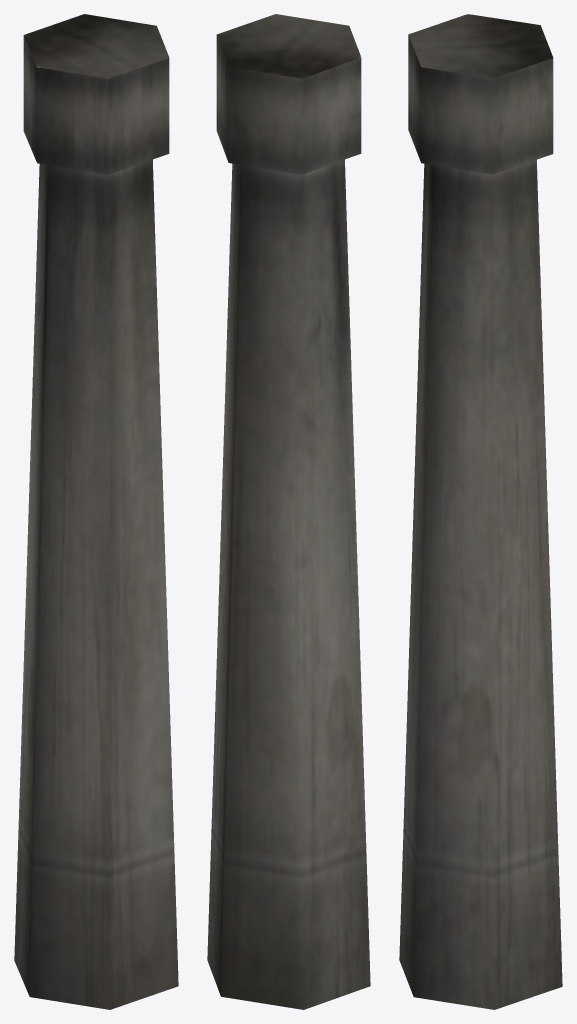
Rendered from Gultuk.FBX.
3 views of the same model, side by side, from view 1: azimuth 30°, elevation 25°; view 2: azimuth 150°, elevation 25°; view 3: azimuth 270°, elevation 25° (orthographic).
Visible parts, largest first — view 1: Object002; view 2: Object002; view 3: Object002.
Part boxes in pixels (x1=…): Object002: x1=14, y1=14, x2=178, y2=1009; Object002: x1=207, y1=14, x2=370, y2=1009; Object002: x1=399, y1=14, x2=562, y2=1009.
Bounding box in the file's own units: 22.27 × 132 × 21.12.
1 material, 1 textured.
